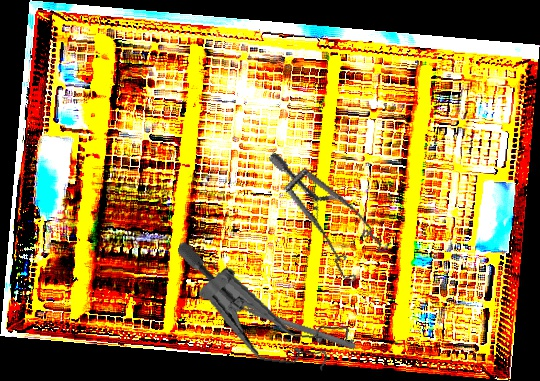Pusher: (214, 294, 357, 351)
Speculum: (163, 238, 366, 378), (237, 151, 407, 294)
